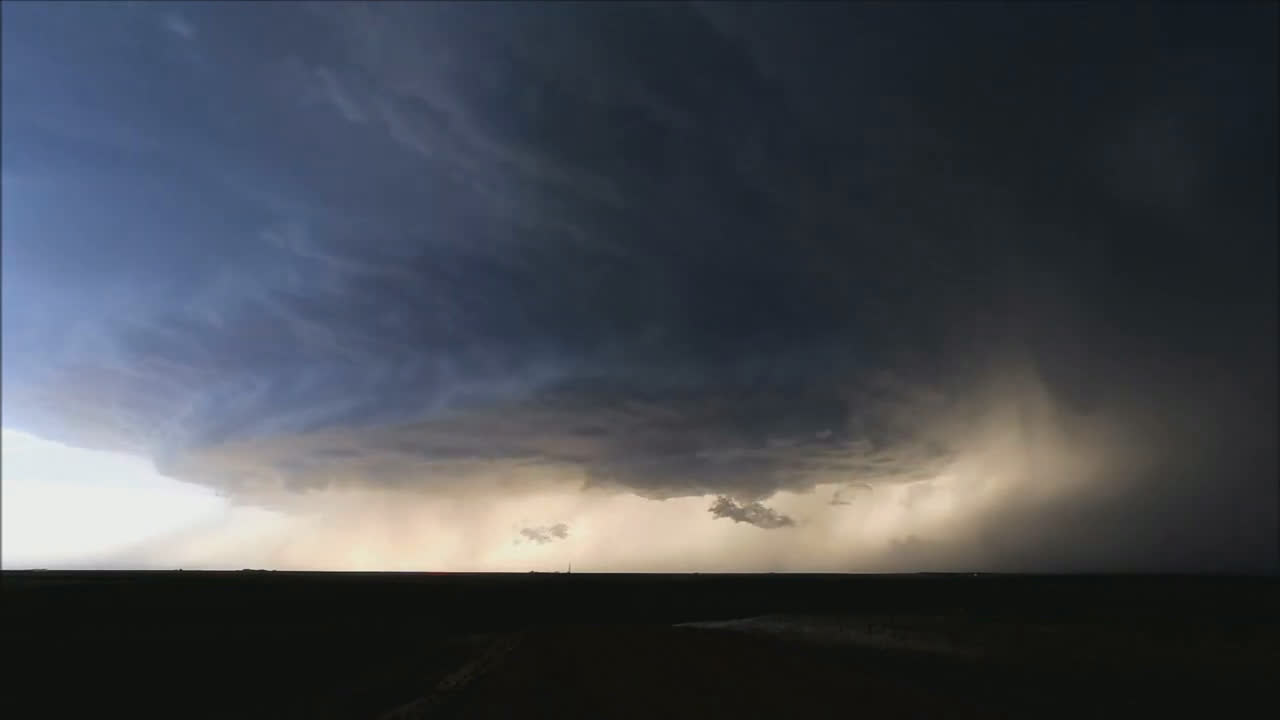FFD: (857, 366, 1278, 573)
RFD: (104, 494, 545, 570)
mesocyclone: (155, 200, 989, 496)
striations: (149, 348, 973, 484)
wall cloud: (578, 462, 830, 528)
